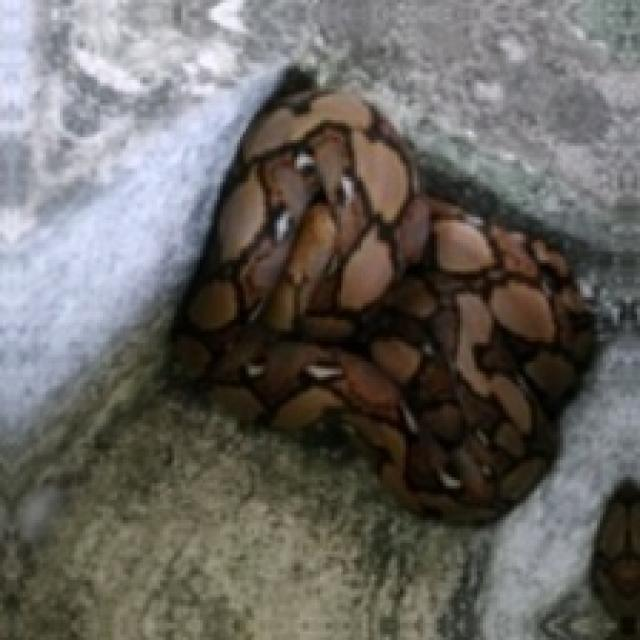reticulated python: (171, 71, 594, 520), (174, 77, 591, 520)
